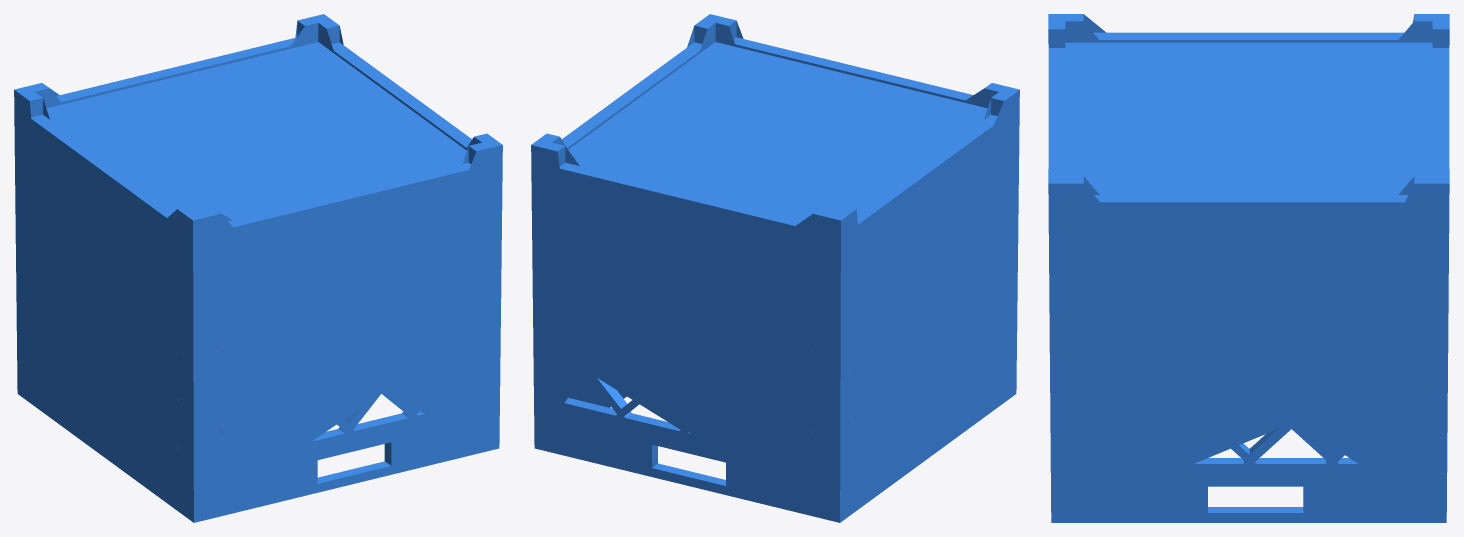
Rendered from WireCrateBlue.fbx.
3 renders of one model, left to right at view 1: azimuth 30°, elevation 25°; view 2: azimuth 150°, elevation 25°; view 3: azimuth 270°, elevation 25°, orthographic. The views are drawn at different scales.
Visible parts, largest first — view 1: Cube.014; view 2: Cube.014; view 3: Cube.014.
Boxes of the visible parts, <box> form: Cube.014: <box>14,14,502,522</box>; Cube.014: <box>531,14,1019,522</box>; Cube.014: <box>1048,14,1449,522</box>.
Bounding box in the file's own units: 78.16 × 73.23 × 78.16.
